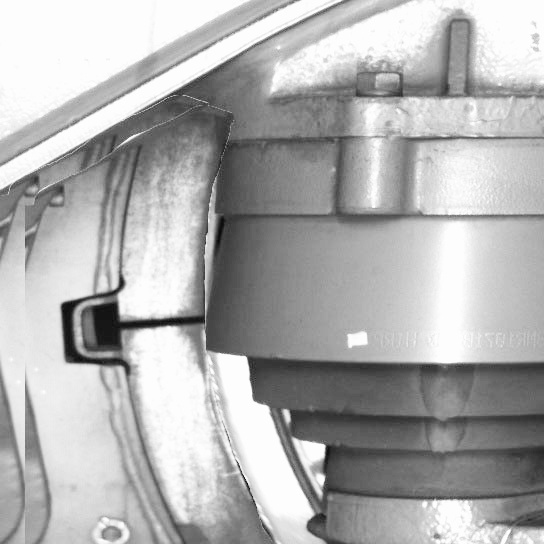ClosedKnifeSwitch: (91, 137, 282, 541)
